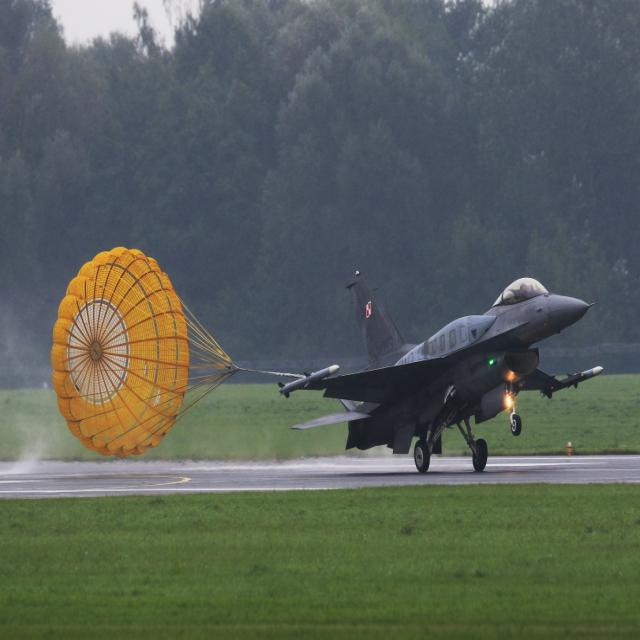MIL_Plane: (277, 269, 604, 473)
